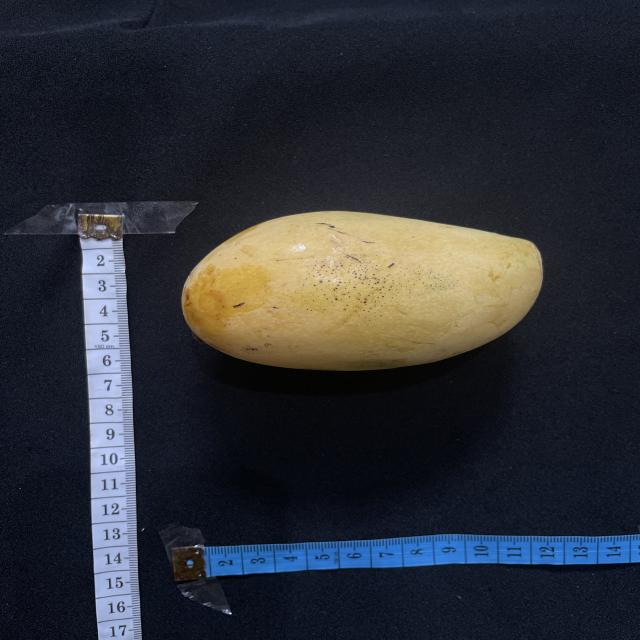Ripe: (182, 211, 543, 370)
